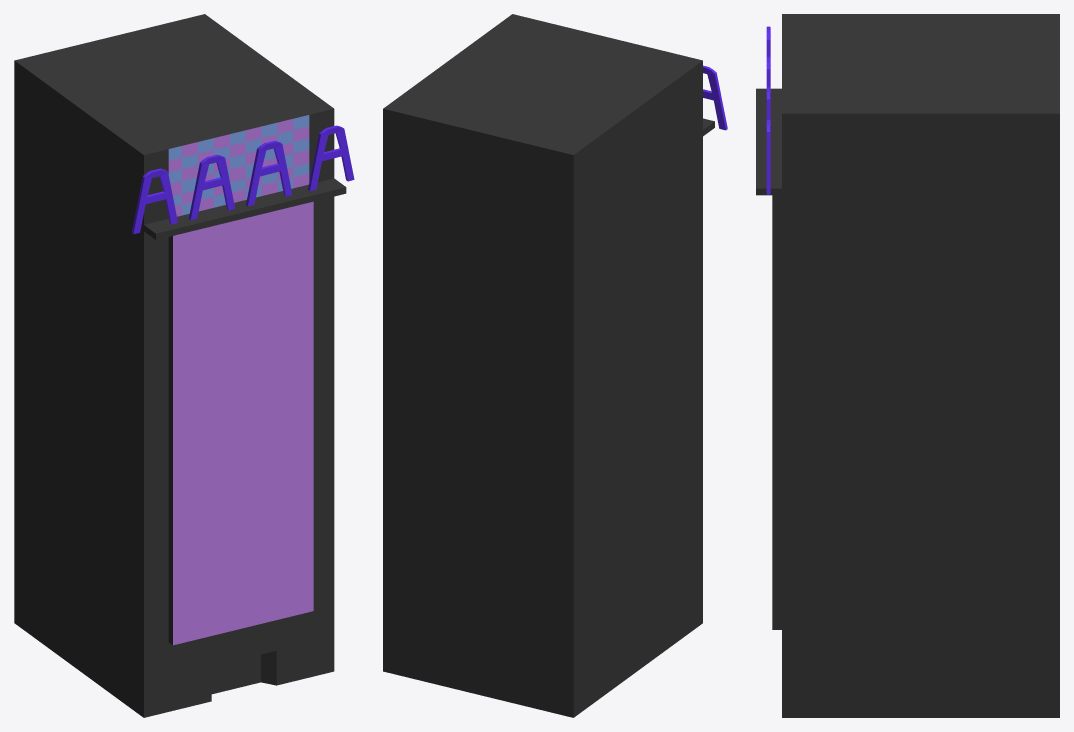
The model's file is Building 4.fbx.
The picture shows the model from 3 angles, left to right: view 1: azimuth 30°, elevation 25°; view 2: azimuth 150°, elevation 25°; view 3: azimuth 270°, elevation 25°; orthographic projection. The views are drawn at different scales.
Visible parts, largest first — view 1: Box041; view 2: Box041; view 3: Box041.
Part boxes in pixels (<box>): Box041: <box>14,14,354,717</box>; Box041: <box>383,14,727,717</box>; Box041: <box>756,14,1059,717</box>.
Bounding box in the file's own units: 11.27 × 27.43 × 12.49.
